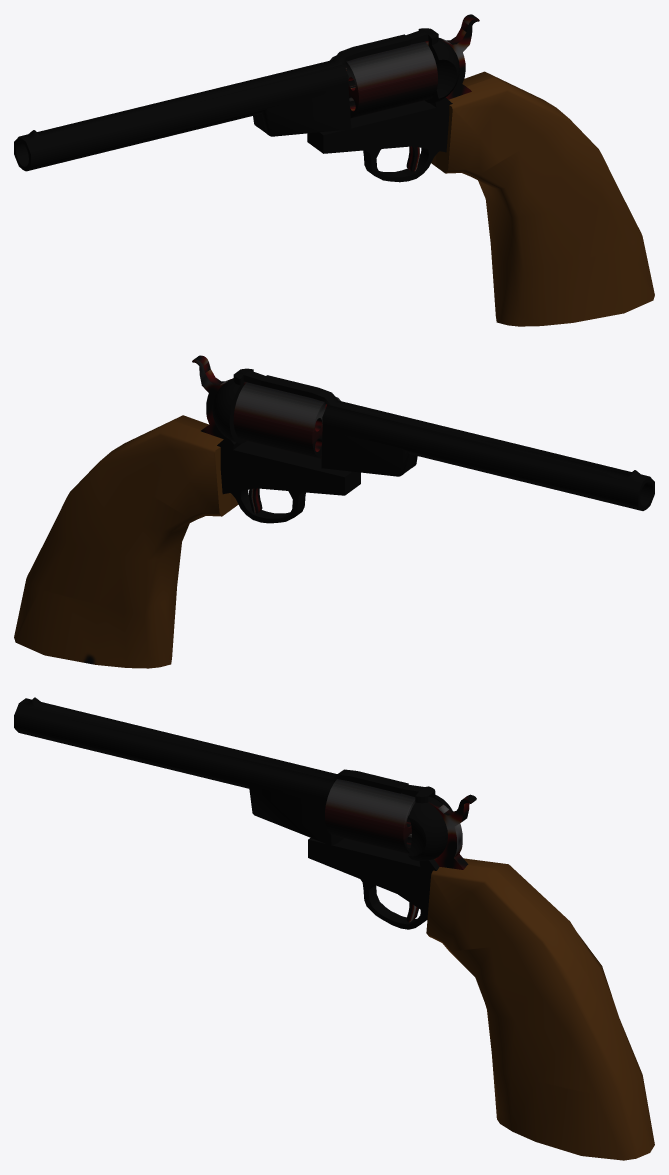
The model's file is Revolver.glb.
The picture shows the model from 3 angles, top to bottom: view 1: azimuth 30°, elevation 25°; view 2: azimuth 150°, elevation 25°; view 3: azimuth 330°, elevation 25°; orthographic projection.
Parts seen in each view (by area): view 1: Revolver_handler, Revolver_Top, Ammo, Case_bottom, Case_Upper, Handel, Coil_Trigger; view 2: Revolver_handler, Revolver_Top, Case_bottom, Ammo, Case_Upper, Handel, Coil_Trigger; view 3: Revolver_handler, Revolver_Top, Ammo, Case_bottom, Case_Upper, Coil_Trigger, Handel.
Boxes of the visible parts, box(x1,y1,x2,y2) form: Revolver_handler: box(431, 71, 654, 326); Revolver_Top: box(14, 34, 411, 171); Ammo: box(330, 41, 437, 118); Case_bottom: box(307, 97, 452, 153); Case_Upper: box(406, 28, 459, 103); Handel: box(363, 148, 439, 182); Coil_Trigger: box(425, 14, 479, 99); Revolver_handler: box(14, 415, 238, 668); Revolver_Top: box(260, 375, 654, 510); Case_bottom: box(217, 437, 360, 495); Ammo: box(233, 382, 340, 458); Case_Upper: box(212, 368, 265, 443); Handel: box(231, 489, 305, 523); Coil_Trigger: box(192, 355, 246, 439); Revolver_handler: box(426, 858, 654, 1160); Revolver_Top: box(14, 697, 408, 845); Ammo: box(325, 779, 415, 853); Case_bottom: box(308, 838, 439, 914); Case_Upper: box(401, 784, 452, 860); Coil_Trigger: box(428, 794, 476, 869); Handel: box(360, 879, 427, 929).
Size of the model in its own units: 0.2093 by 0.1003 by 0.025.
Materials: 3 (3 with a texture image).
